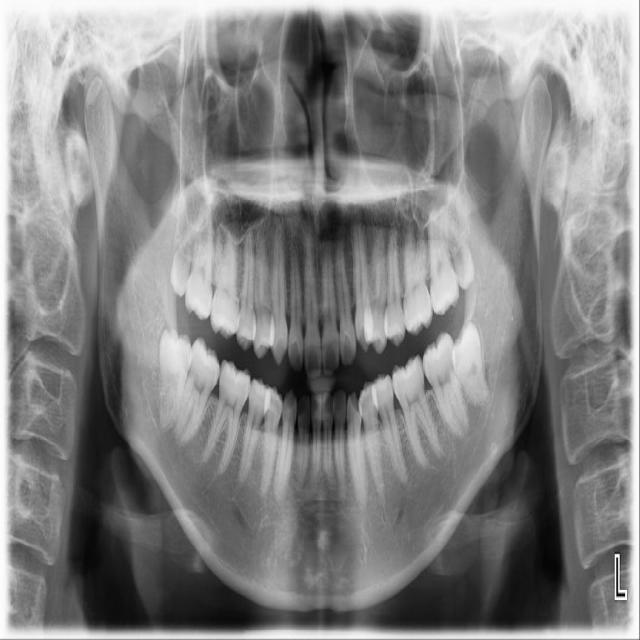Periapical lesion: (431, 447, 450, 463), (359, 207, 368, 232), (158, 426, 175, 439), (398, 470, 409, 489)
impacted tooth: (453, 320, 494, 408), (158, 331, 192, 433), (437, 209, 475, 292), (171, 193, 194, 293)
